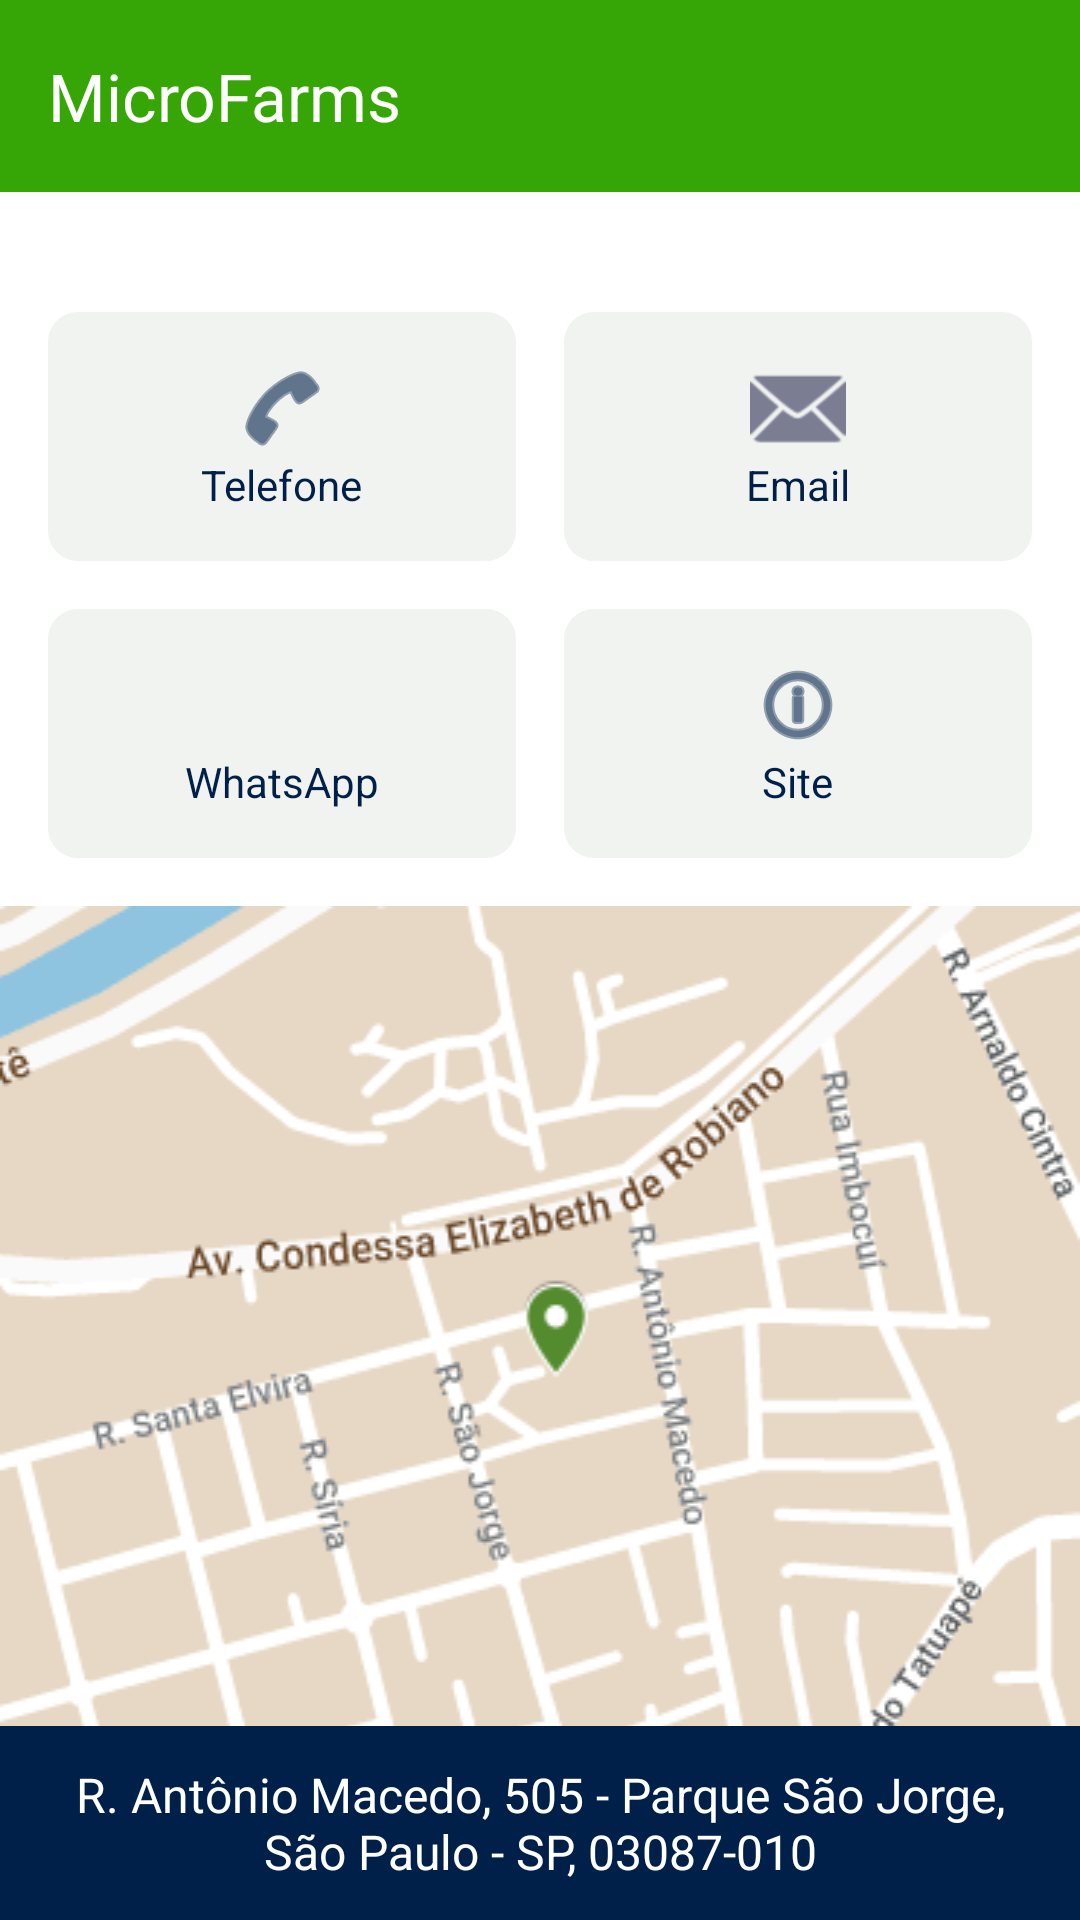

Named icons in this screenshot (1080 × 1920) and their centers, [x,y]:
info details: [798,705]
